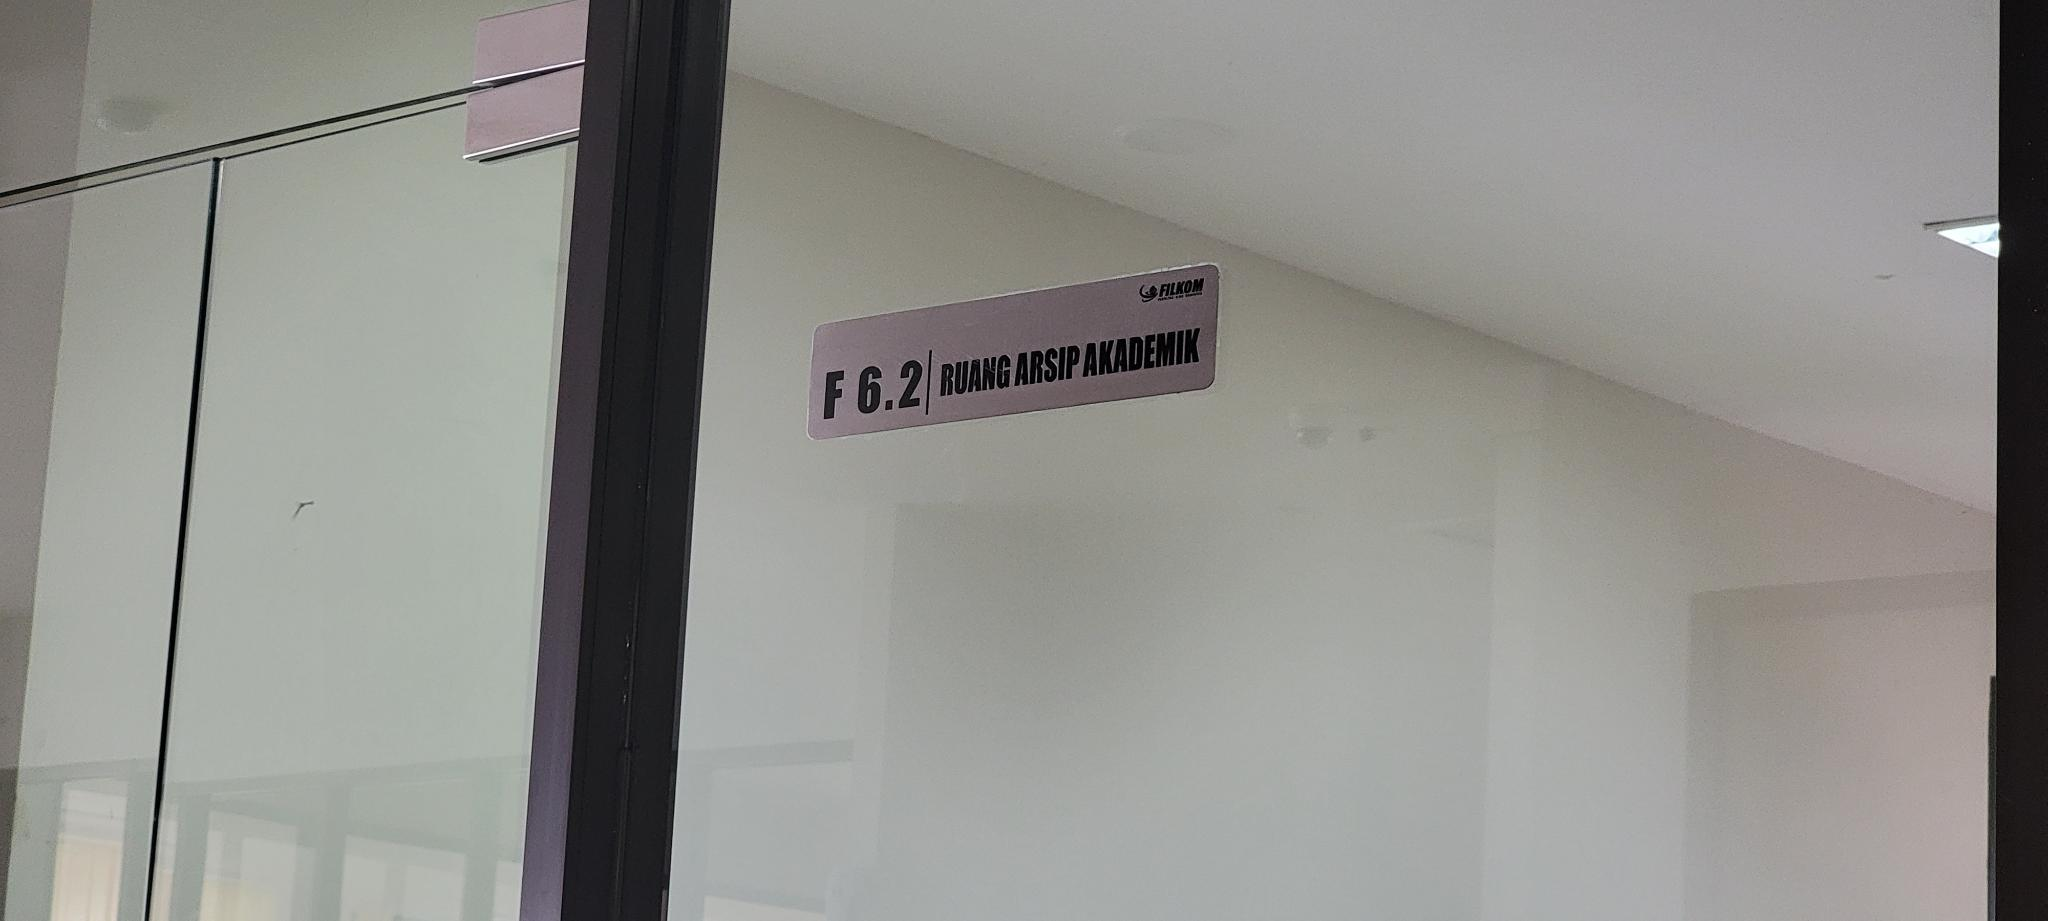plate: (808, 264, 1219, 444)
